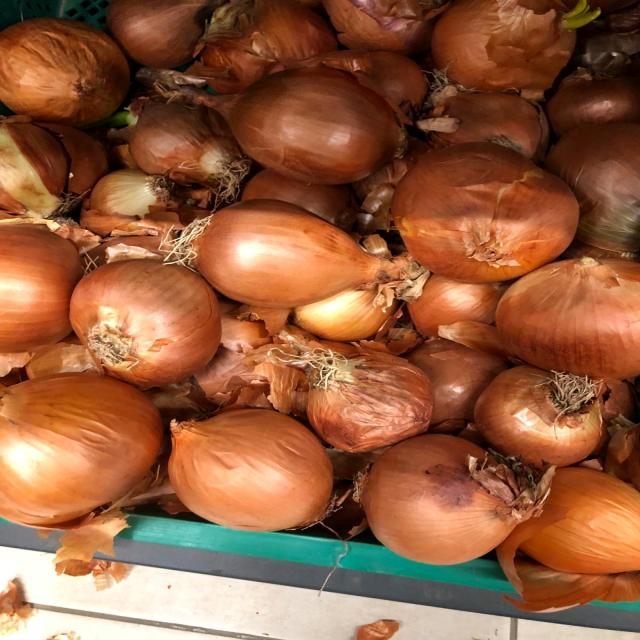onion: (339, 415, 557, 570), (381, 141, 592, 288), (152, 394, 341, 547), (167, 191, 408, 309), (183, 65, 416, 187), (56, 247, 231, 393), (459, 348, 625, 470)
